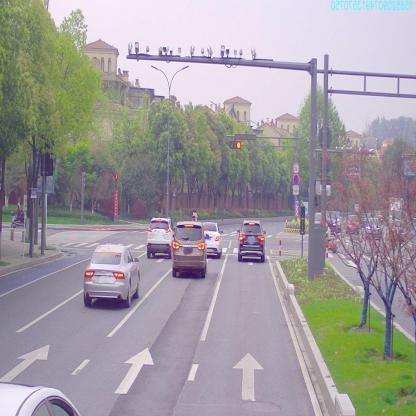traffic-light: (228, 140, 242, 148)
